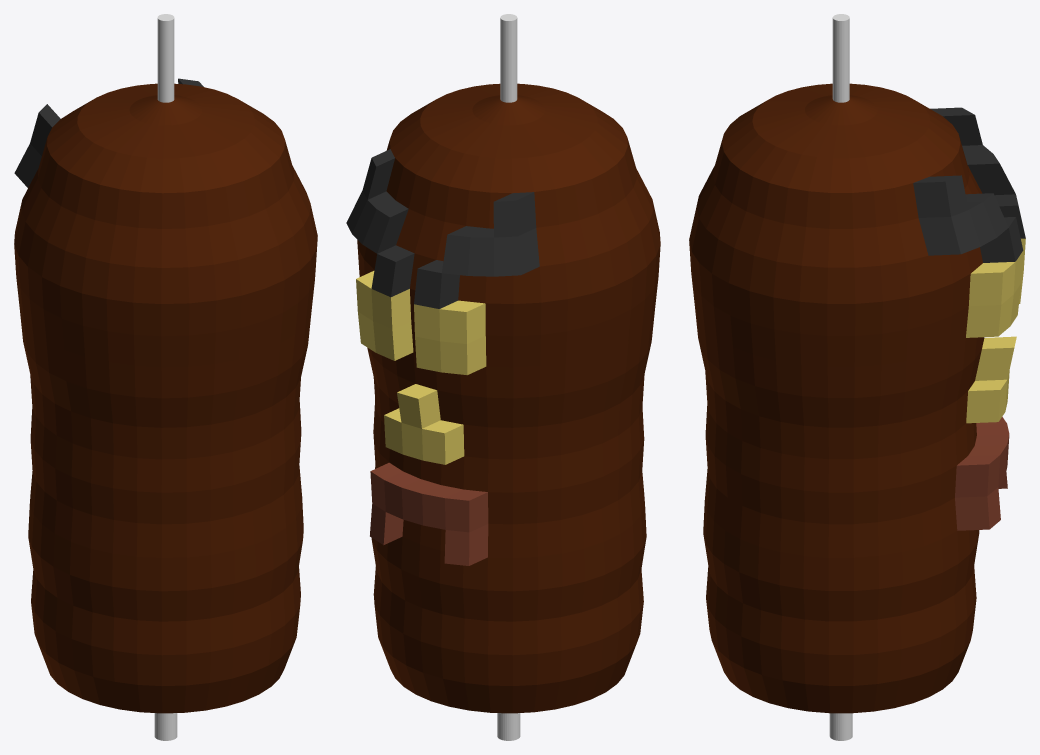
File: Kebab.fbx
The picture shows the model from 3 angles, left to right: view 1: azimuth 30°, elevation 25°; view 2: azimuth 150°, elevation 25°; view 3: azimuth 270°, elevation 25°; orthographic projection.
Parts seen in each view (by area): view 1: Cylinder.001; view 2: Cylinder.001; view 3: Cylinder.001.
Part boxes in pixels (x1,y1,x2,y2): Cylinder.001: (14, 14, 317, 740); Cylinder.001: (346, 14, 660, 740); Cylinder.001: (689, 14, 1025, 740).
Bounding box in the file's own units: 254 × 665 × 282.
